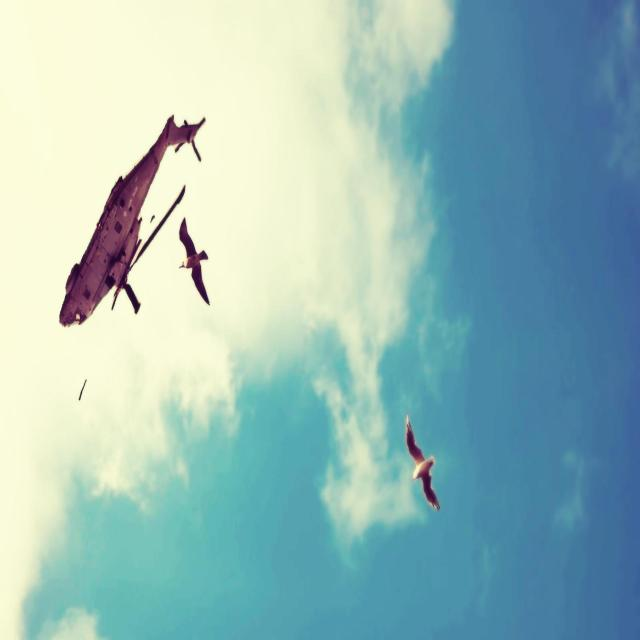airplane: (59, 112, 206, 328)
